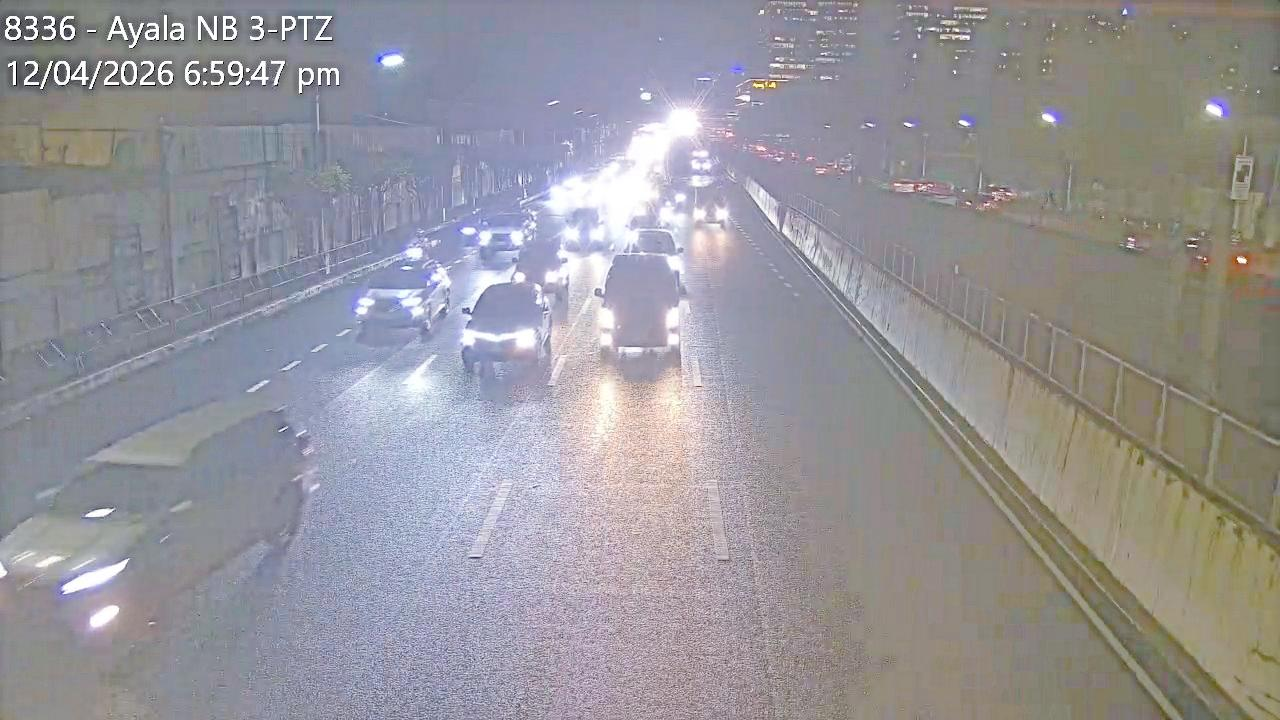Car: (2, 397, 313, 673), (594, 247, 684, 354), (457, 279, 551, 375), (353, 258, 447, 332), (617, 227, 686, 292), (508, 236, 569, 300), (475, 209, 533, 262), (562, 202, 617, 252), (690, 182, 725, 226)
Motor: (406, 224, 431, 261)
Not Accident: (596, 227, 686, 359), (352, 226, 448, 334)
